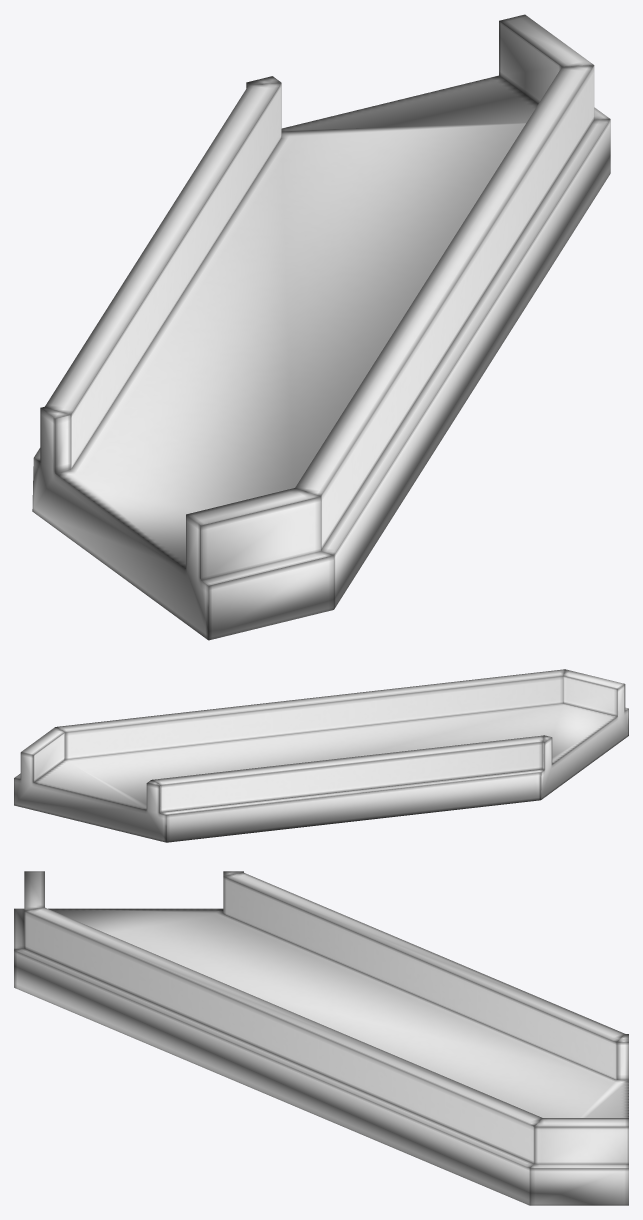
Rendered from Road-03.fbx.
The picture shows the model from 3 angles, top to bottom: view 1: azimuth 30°, elevation 25°; view 2: azimuth 150°, elevation 25°; view 3: azimuth 270°, elevation 25°; orthographic projection. The views are drawn at different scales.
Parts seen in each view (by area): view 1: Road-03; view 2: Road-03; view 3: Road-03.
Part boxes in pixels (box(x1,y1,x2,y2)): Road-03: box(32, 14, 610, 640); Road-03: box(14, 669, 628, 842); Road-03: box(14, 871, 628, 1205).
Size of the model in its own units: 1.86 by 0.25 by 1.86.
